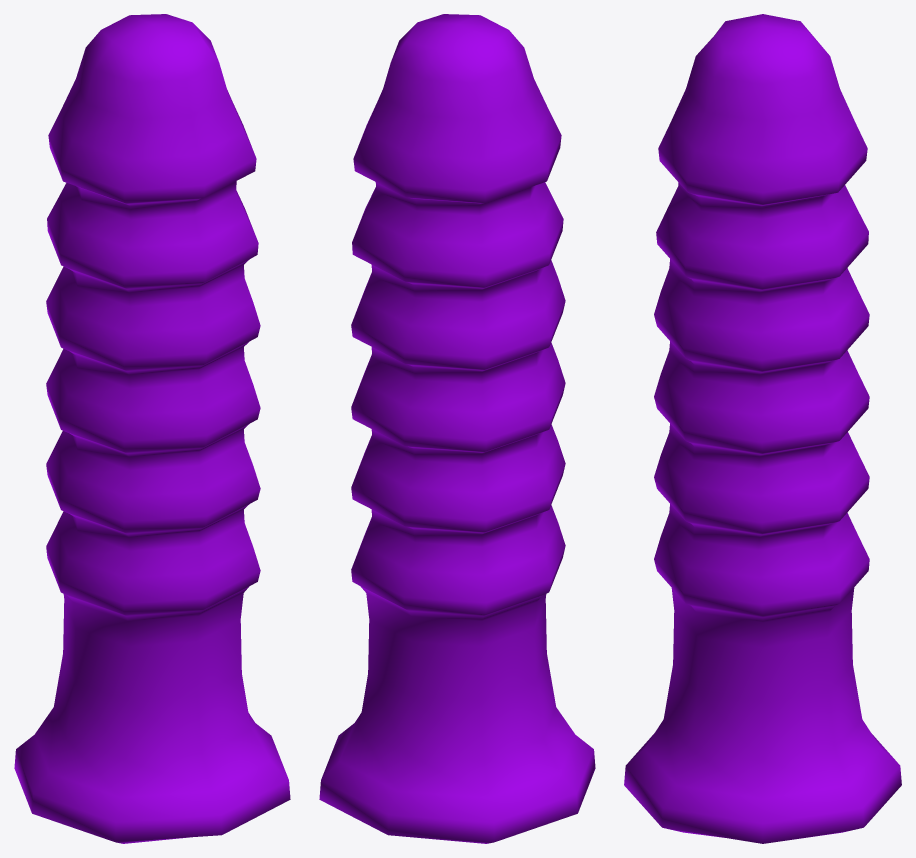
The model's file is Purple.fbx.
3 views of the same model, side by side, from view 1: azimuth 30°, elevation 25°; view 2: azimuth 150°, elevation 25°; view 3: azimuth 270°, elevation 25° (orthographic).
Visible parts, largest first — view 1: Purple Object; view 2: Purple Object; view 3: Purple Object.
Boxes of the visible parts, box(x1,y1,x2,y2) form: Purple Object: box(14, 14, 290, 843); Purple Object: box(319, 14, 595, 843); Purple Object: box(624, 14, 901, 843).
Size of the model in its own units: 0.1936 by 0.6012 by 0.1936.
